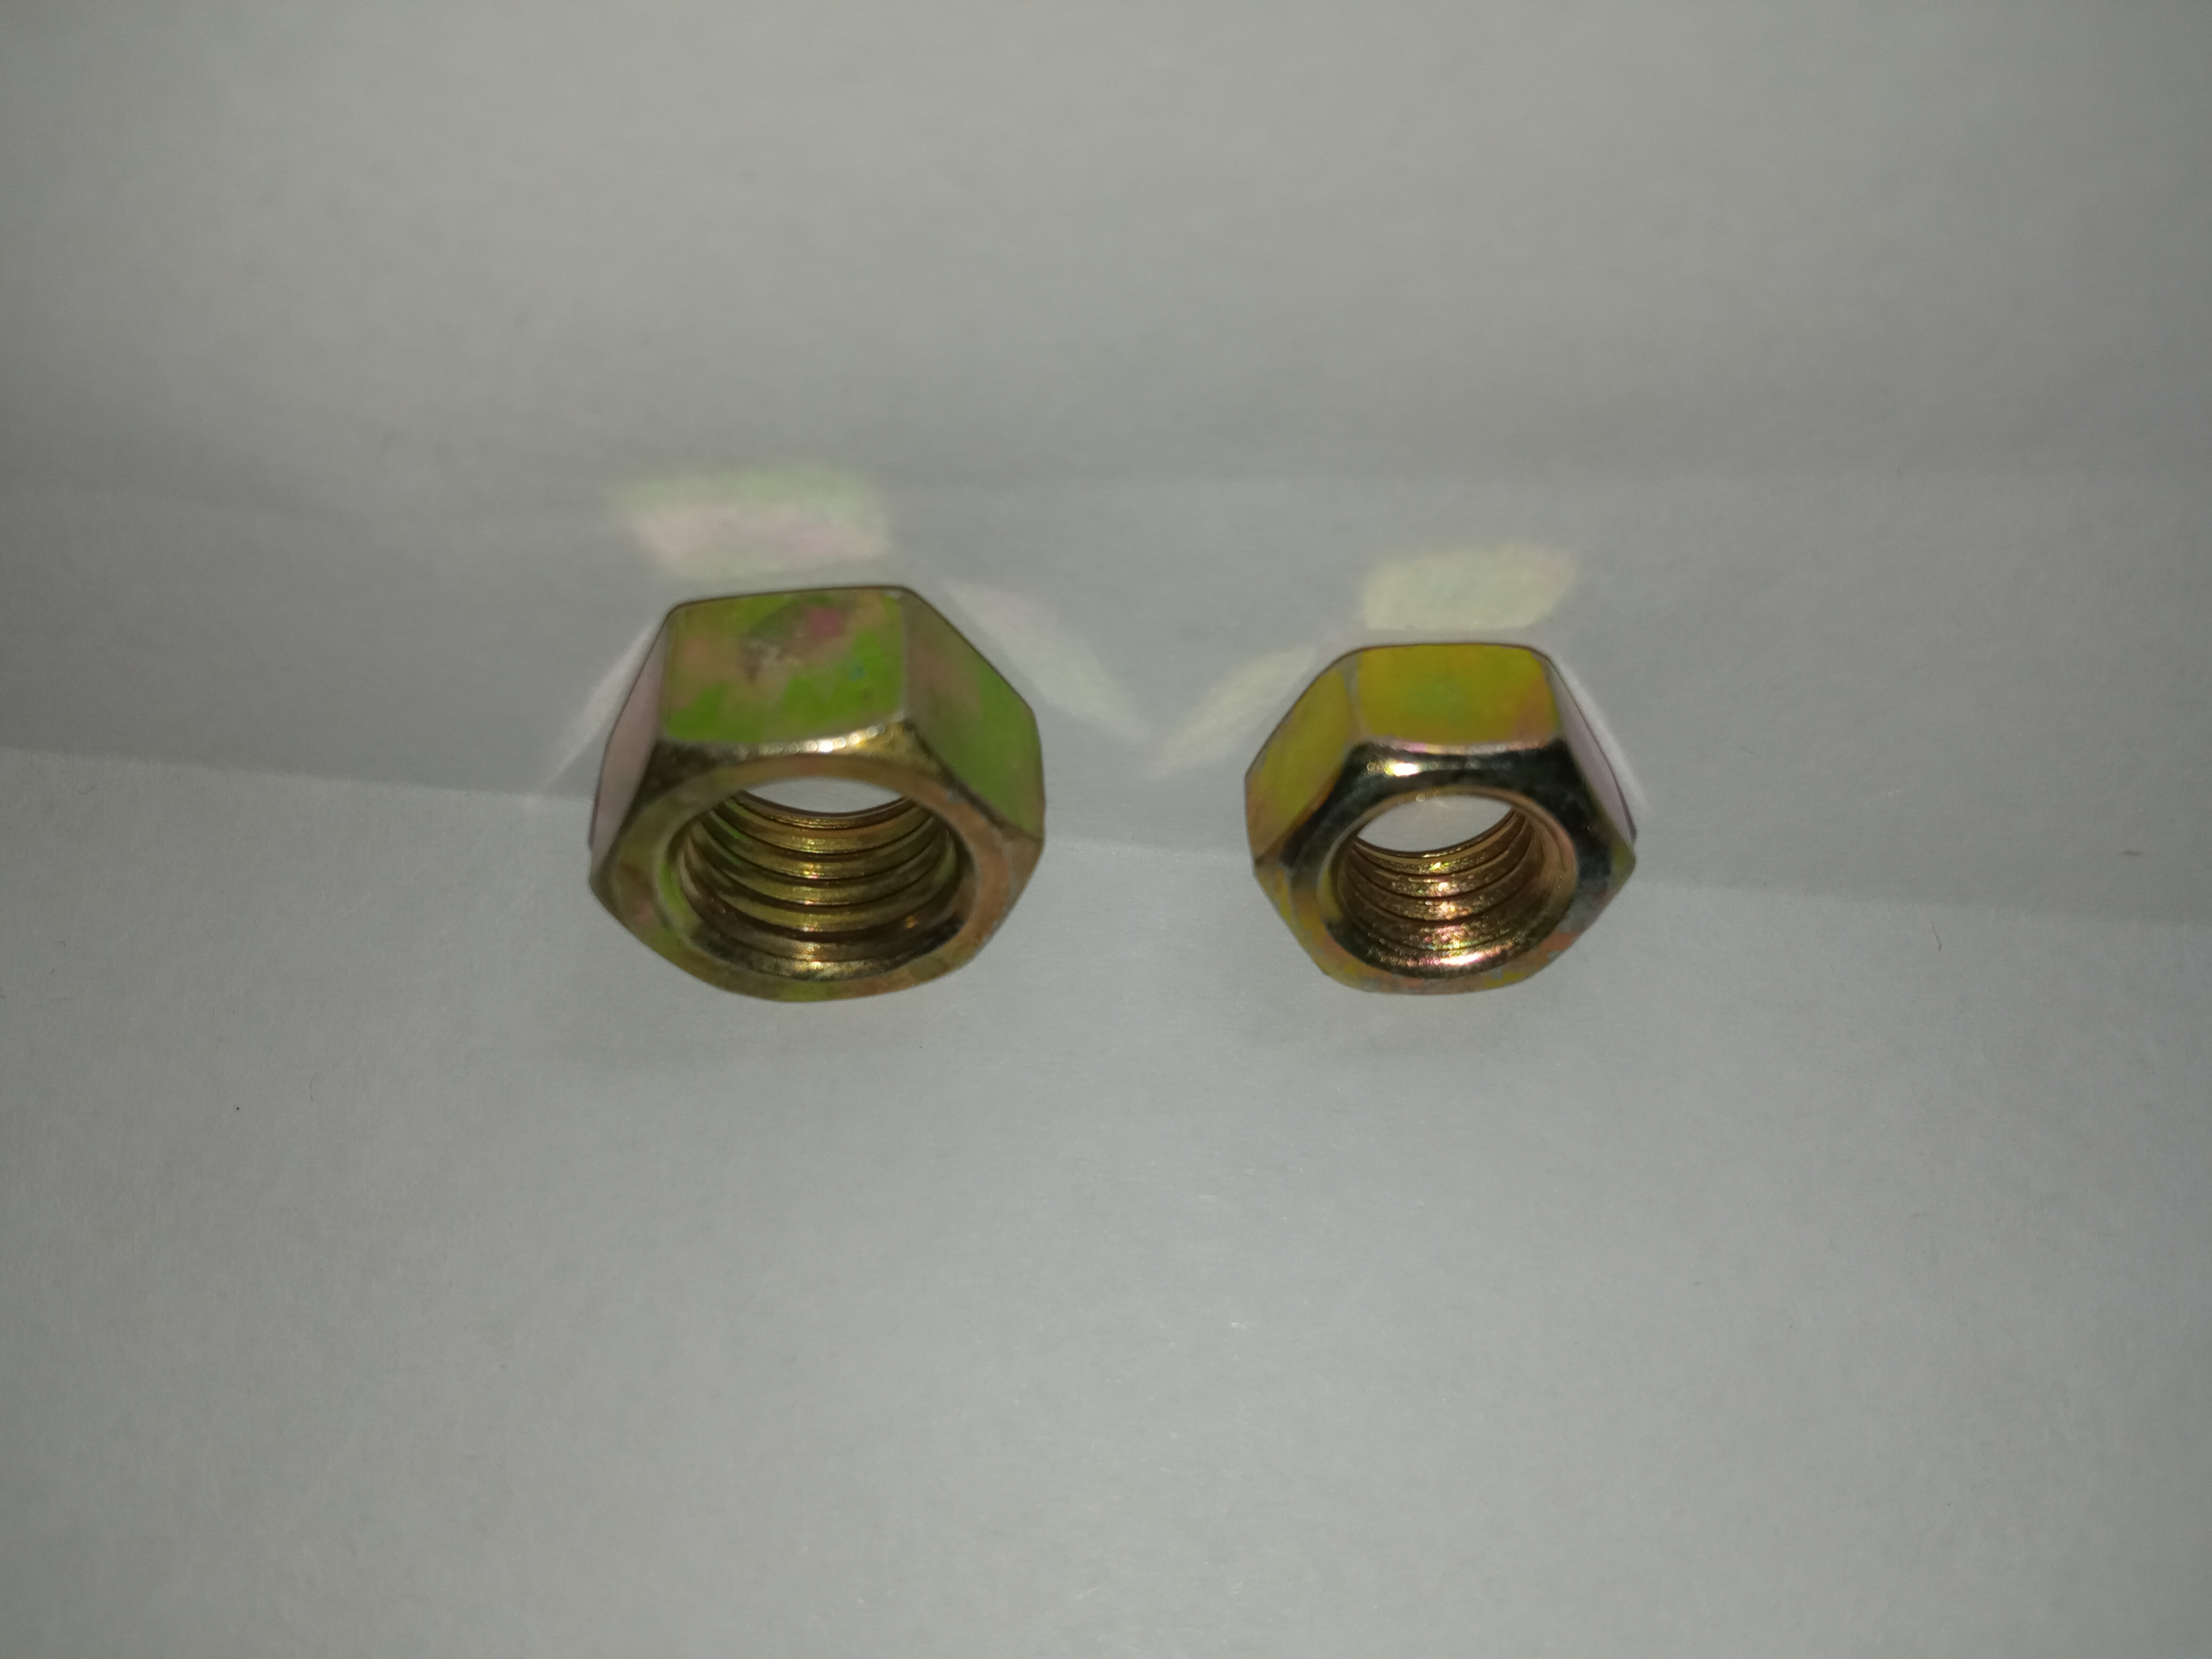m10: (590, 582, 1024, 1014)
m8: (1240, 638, 1634, 1002)
